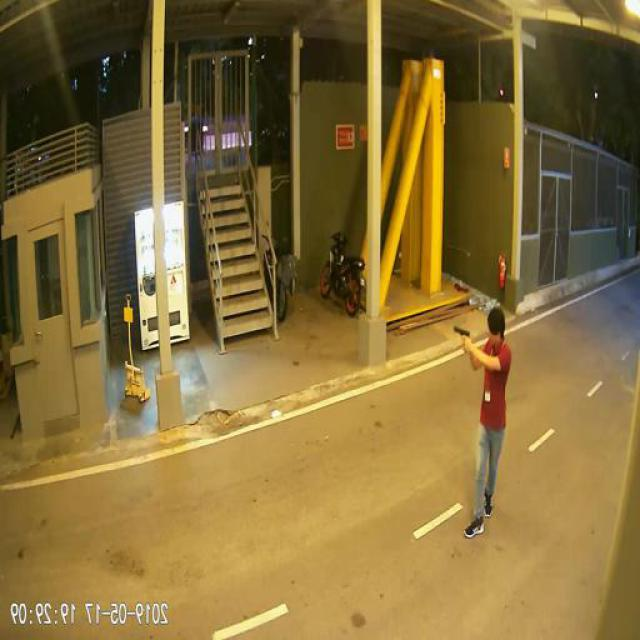Gun: (455, 324, 473, 350)
